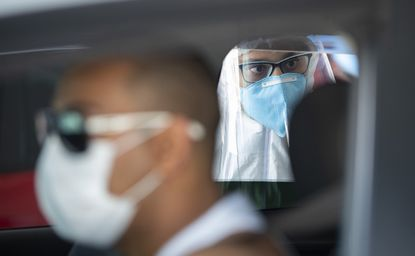with_mask: (33, 68, 207, 252), (216, 37, 337, 143)
